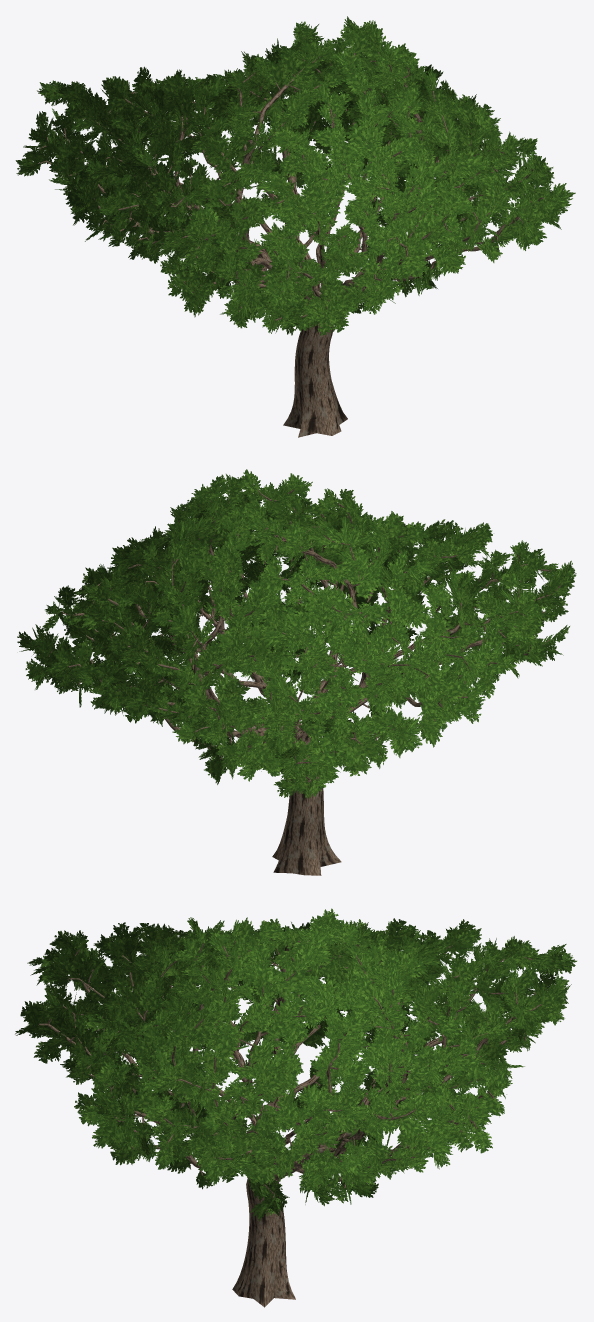
The model's file is oak_02.glb.
The picture shows the model from 3 angles, top to bottom: view 1: azimuth 30°, elevation 25°; view 2: azimuth 150°, elevation 25°; view 3: azimuth 270°, elevation 25°; orthographic projection. The views are drawn at different scales.
Visible parts, largest first — view 1: oak_02; view 2: oak_02; view 3: oak_02.
Boxes of the visible parts, x1,y1,x2,y2 form: oak_02: (15, 16, 575, 437); oak_02: (17, 469, 576, 875); oak_02: (15, 908, 576, 1307).
Bounding box in the file's own units: 15.1 × 13.13 × 16.92.
Materials: 2 (2 with a texture image).
